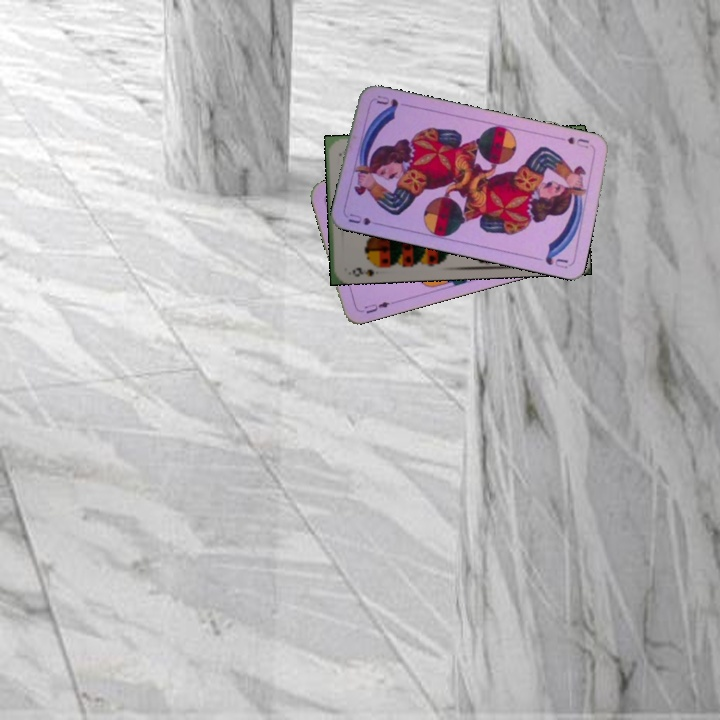EU: (361, 297, 397, 316)
S9: (348, 258, 386, 279)
SU: (344, 209, 385, 228), (563, 133, 595, 151)
